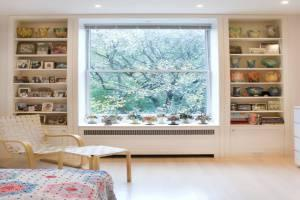window: (79, 18, 217, 123)
